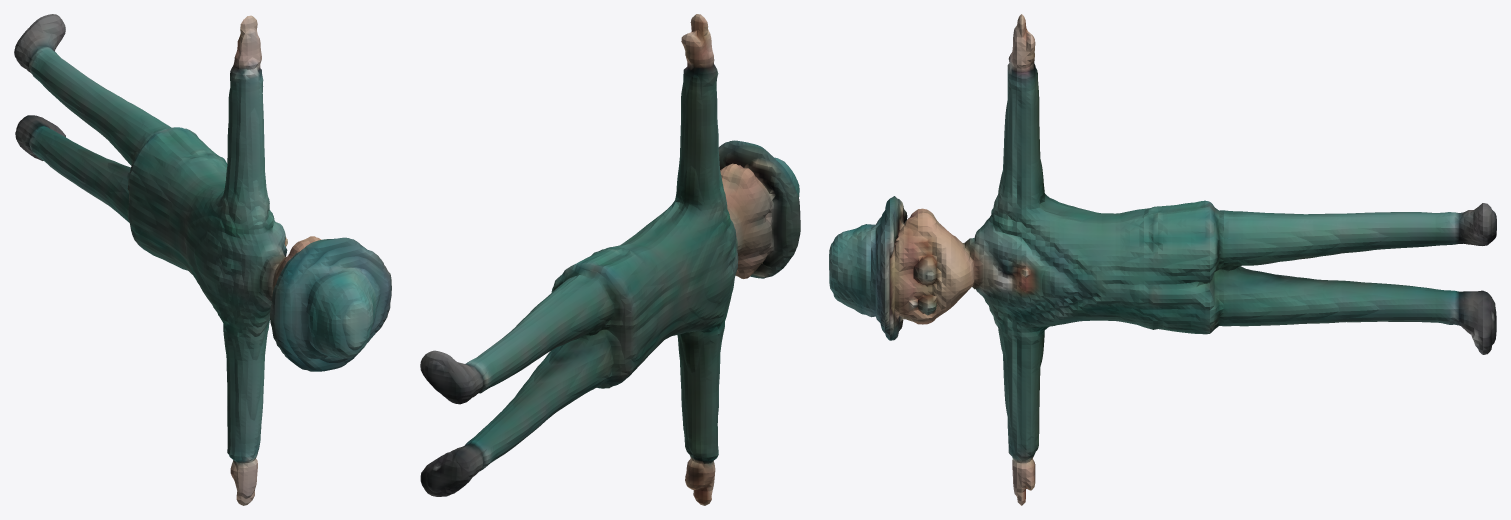
Rendered from stox.glb.
3 renders of one model, left to right at view 1: azimuth 30°, elevation 25°; view 2: azimuth 150°, elevation 25°; view 3: azimuth 270°, elevation 25°, orthographic.
Parts seen in each view (by area): view 1: geometry_0; view 2: geometry_0; view 3: geometry_0.
Boxes of the visible parts, x1,y1,x2,y2 form: geometry_0: [14, 14, 391, 505]; geometry_0: [420, 14, 800, 505]; geometry_0: [829, 14, 1496, 505].
Size of the model in its own units: 0.1936 by 0.7873 by 0.9684.
